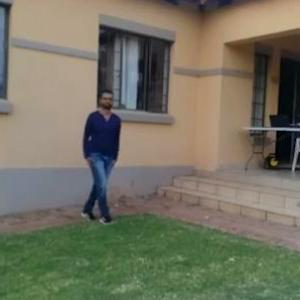follow: (75, 87, 121, 224)
